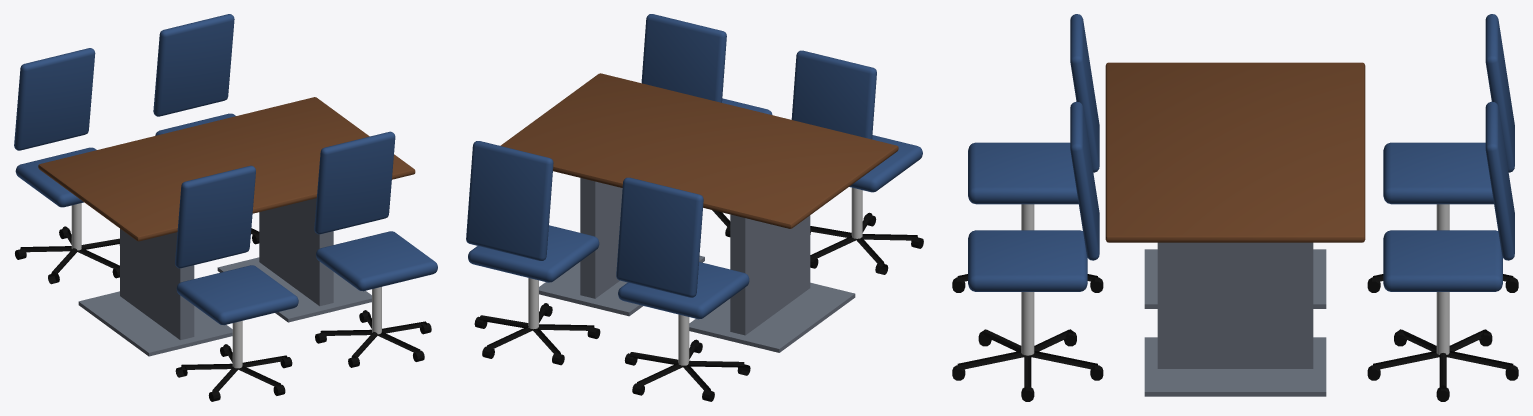
File: furniture.table.meeting_4.glb
3 renders of one model, left to right at view 1: azimuth 30°, elevation 25°; view 2: azimuth 150°, elevation 25°; view 3: azimuth 270°, elevation 25°, orthographic. The views are drawn at different scales.
Visible parts, largest first — view 1: main__fabric_blue, main__hardwood, main__steel_painted, main__plastic_black, main__steel_stainless; view 2: main__fabric_blue, main__hardwood, main__steel_painted, main__plastic_black, main__steel_stainless; view 3: main__hardwood, main__fabric_blue, main__steel_painted, main__plastic_black, main__steel_stainless.
Part boxes in pixels (left/top/right/bottom): main__fabric_blue: left=14, top=14, right=437, bottom=325; main__hardwood: left=38, top=97, right=415, bottom=241; main__steel_painted: left=78, top=198, right=371, bottom=356; main__plastic_black: left=15, top=226, right=431, bottom=401; main__steel_stainless: left=71, top=203, right=381, bottom=368; main__fabric_blue: left=466, top=14, right=922, bottom=319; main__hardwood: left=500, top=73, right=898, bottom=228; main__steel_painted: left=539, top=178, right=855, bottom=352; main__plastic_black: left=474, top=210, right=923, bottom=401; main__steel_stainless: left=528, top=187, right=862, bottom=365; main__hardwood: left=1105, top=62, right=1365, bottom=242; main__fabric_blue: left=968, top=14, right=1514, bottom=291; main__steel_painted: left=1144, top=242, right=1326, bottom=396; main__plastic_black: left=952, top=274, right=1518, bottom=401; main__steel_stainless: left=1021, top=204, right=1449, bottom=355.
Size of the model in its own units: 1.6 by 1.05 by 2.18.
